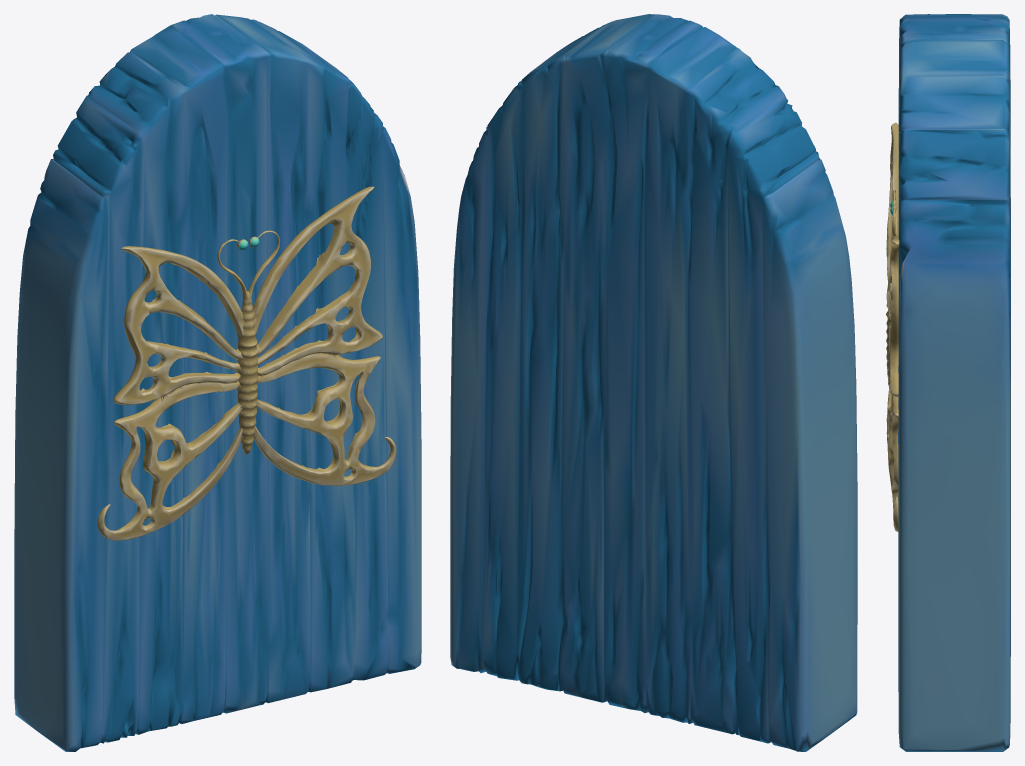
Rendered from SM_Door_blue.fbx.
The picture shows the model from 3 angles, left to right: view 1: azimuth 30°, elevation 25°; view 2: azimuth 150°, elevation 25°; view 3: azimuth 270°, elevation 25°; orthographic projection. The views are drawn at different scales.
Visible parts, largest first — view 1: Door_blue; view 2: Door_blue; view 3: Door_blue.
Part boxes in pixels (x1=…): Door_blue: x1=14, y1=14, x2=421, y2=751; Door_blue: x1=450, y1=14, x2=857, y2=751; Door_blue: x1=886, y1=14, x2=1010, y2=751.
Bounding box in the file's own units: 93.26 × 163 × 28.79.
